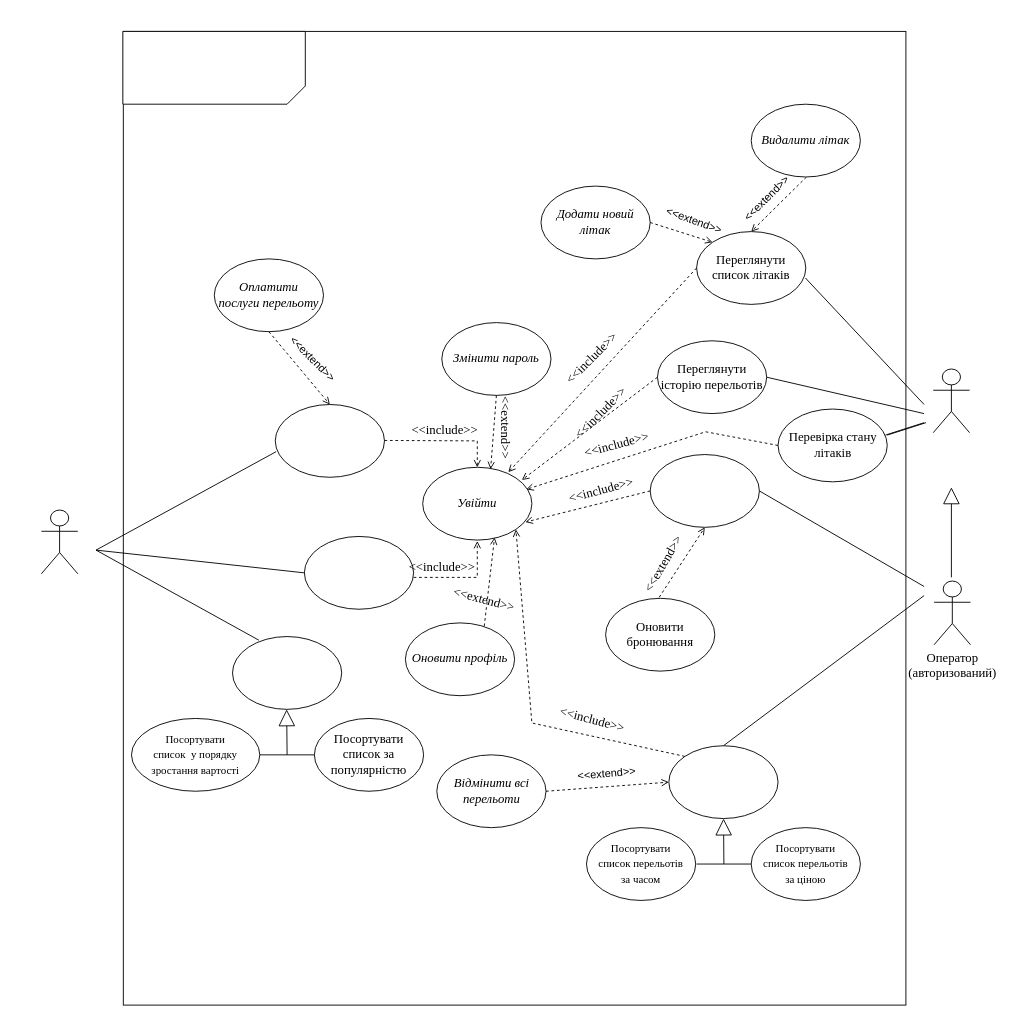
Image size: 1012x1021. Some labels were removed from this diagram. Here are the shapes that lost their labels. From the top down, the centre of each, then its label:
point (213, 67): Information system "Ryanair"
point (951, 400): Системний користувач (авторизований)
point (329, 440): Забронювати квиток
point (704, 490): Створити бронюванння для клієнта
point (59, 541): Користувач (авторизований)
point (358, 572): Зв'язатись з підтримкою
point (287, 672): Переглянути список послуг під час перельоту
point (723, 782): Переглянути список перельотів
